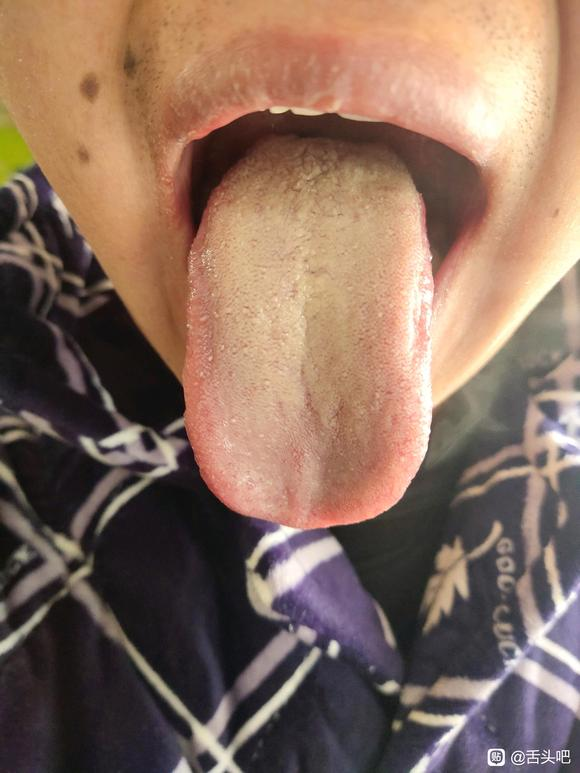huangtaishe: (180, 135, 434, 530)
liewenshe: (288, 138, 352, 187)
